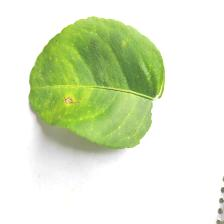greening: (40, 24, 107, 85), (83, 92, 156, 146)
